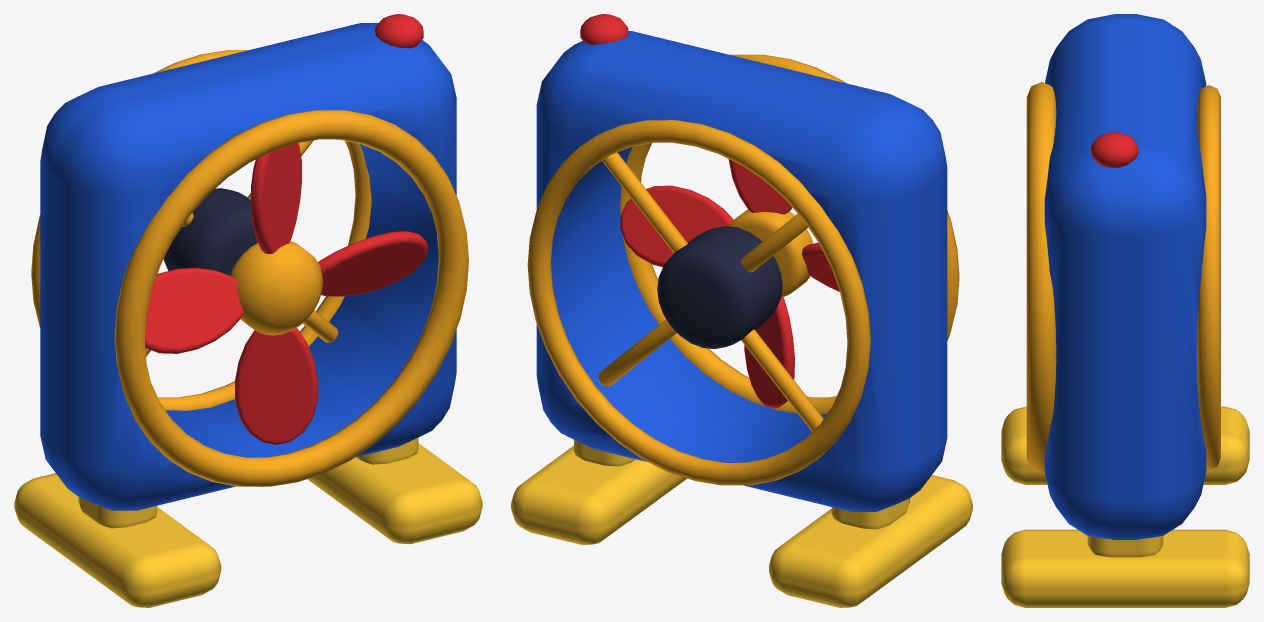
File: fan.glb
3 renders of one model, left to right at view 1: azimuth 30°, elevation 25°; view 2: azimuth 150°, elevation 25°; view 3: azimuth 270°, elevation 25°, orthographic. The views are drawn at different scales.
Parts seen in each view (by area): view 1: fan_body, fan_rotor; view 2: fan_body, fan_rotor; view 3: fan_body.
Boxes of the visible parts, <box> form: fan_body: <box>14,14,482,607</box>; fan_rotor: <box>144,143,427,444</box>; fan_body: <box>511,14,972,607</box>; fan_rotor: <box>620,159,839,408</box>; fan_body: <box>1001,14,1249,607</box>.
Size of the model in its own units: 0.8 by 0.9515 by 0.46.
